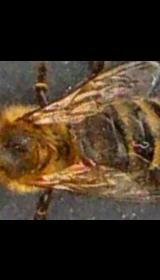varroa_mite: (76, 151, 100, 176)
